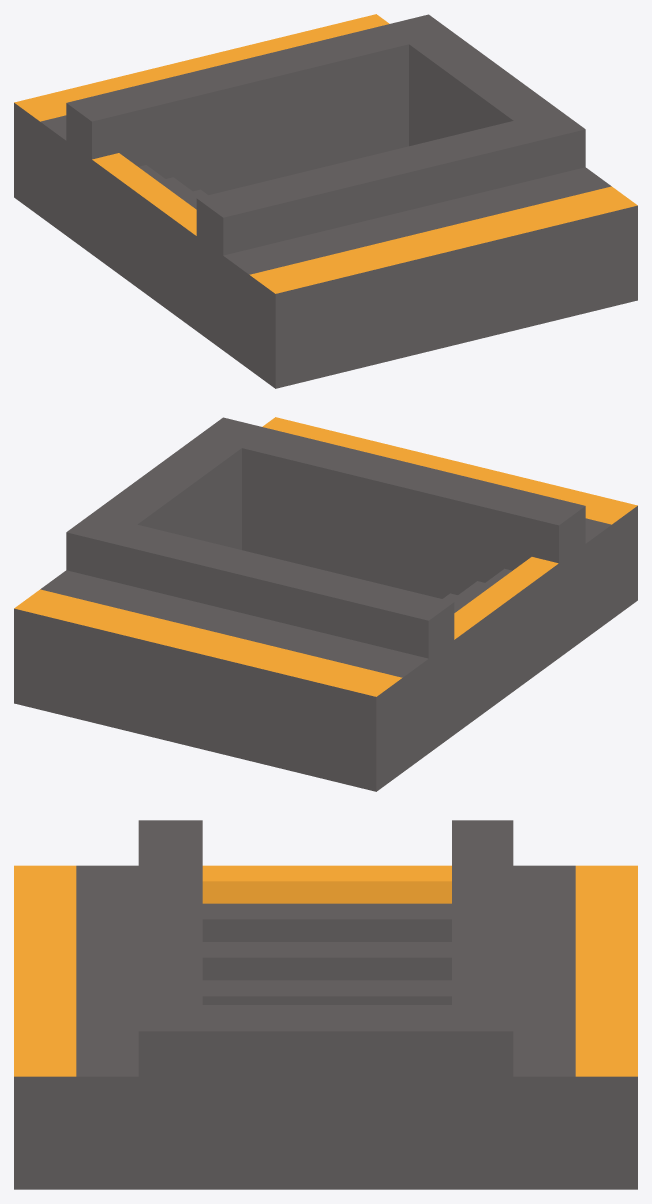
The model's file is train-station-platform-stairs-small.glb.
3 views of the same model, one above another, from view 1: azimuth 30°, elevation 25°; view 2: azimuth 150°, elevation 25°; view 3: azimuth 270°, elevation 25° (orthographic). The views are drawn at different scales.
Visible parts, largest first — view 1: train-station-platform-stairs-small; view 2: train-station-platform-stairs-small; view 3: train-station-platform-stairs-small.
Part boxes in pixels (x1,y1,x2,y2): train-station-platform-stairs-small: [14, 14, 637, 388]; train-station-platform-stairs-small: [14, 417, 637, 791]; train-station-platform-stairs-small: [14, 820, 637, 1189].
Size of the model in its own units: 4 by 1.4 by 5.
Materials: 1 (1 with a texture image).
